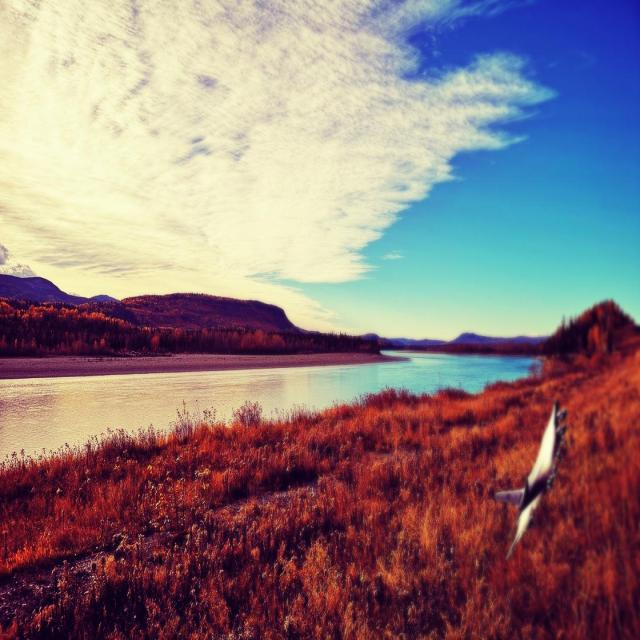airplane: (493, 399, 568, 560)
